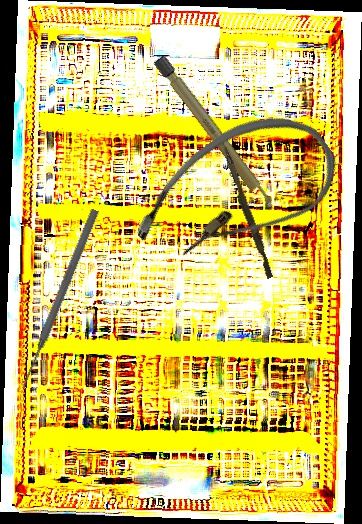Cannula: (118, 87, 353, 301)
Pusher: (17, 207, 101, 391), (215, 139, 277, 279)
Scalpel Handle: (151, 53, 279, 216)
